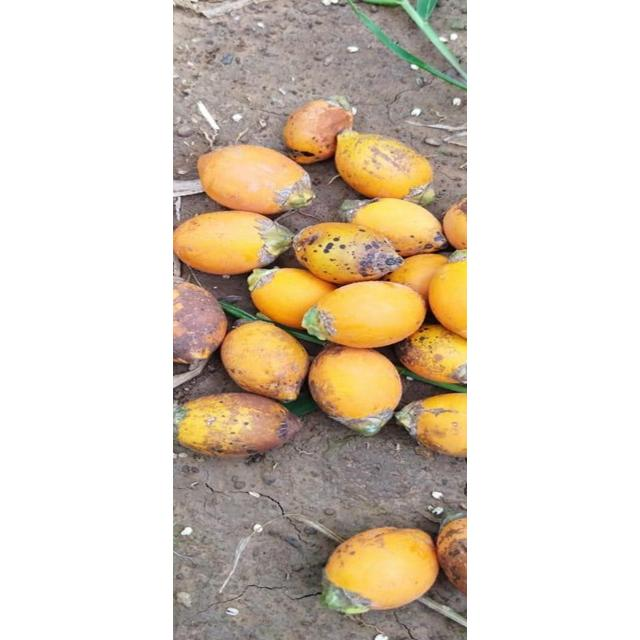good: (320, 528, 440, 612), (306, 343, 402, 432), (196, 146, 316, 214), (175, 394, 302, 456), (174, 212, 296, 276), (300, 284, 426, 342), (220, 321, 310, 401), (332, 131, 433, 201), (292, 222, 402, 284), (342, 199, 446, 257), (249, 268, 337, 330), (394, 392, 466, 458), (282, 98, 354, 164), (174, 277, 228, 365), (395, 324, 467, 386), (384, 253, 448, 303)
